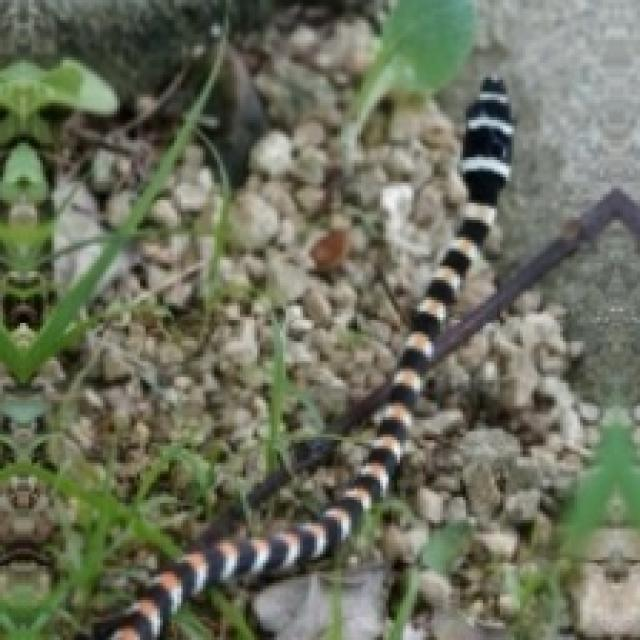paradise tree snake: (40, 80, 594, 637), (94, 80, 546, 637), (129, 374, 391, 569), (549, 509, 637, 637), (74, 320, 146, 469), (171, 149, 217, 217)
